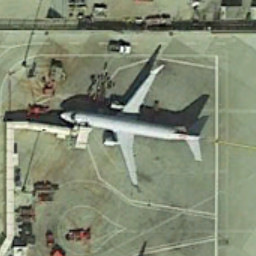Airplane: (60, 53, 221, 192)
